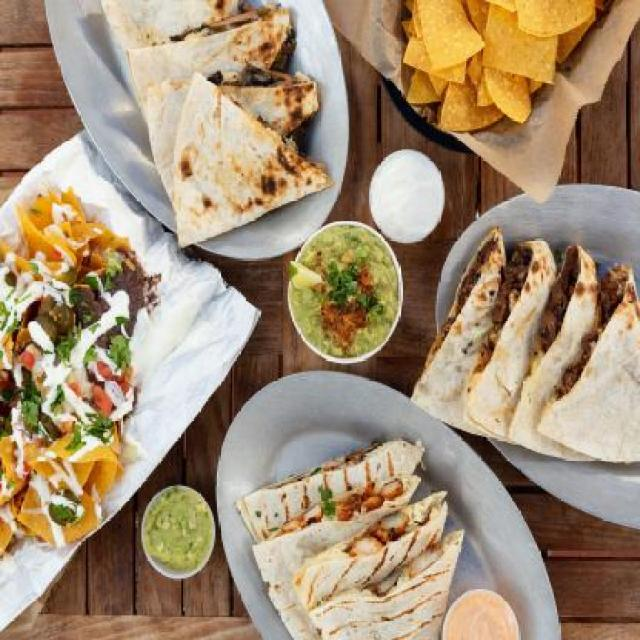chicken quesadilla: (411, 226, 640, 474), (232, 431, 463, 638)
guacamole: (290, 214, 408, 368), (142, 483, 222, 579)
nachos: (382, 1, 621, 147)
